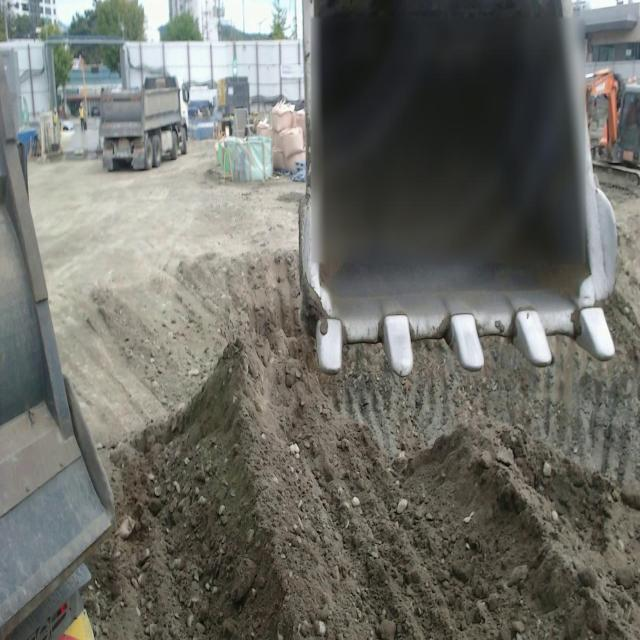red-sand: (86, 251, 640, 639)
white-sand: (30, 141, 297, 446)
